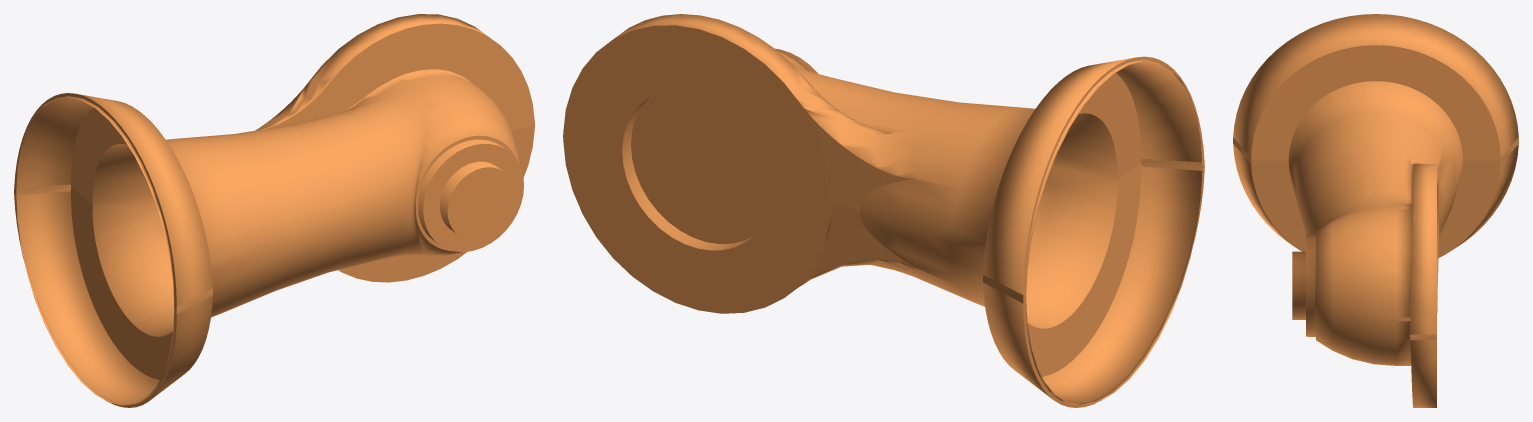
3 views of the same model, side by side, from view 1: azimuth 30°, elevation 25°; view 2: azimuth 150°, elevation 25°; view 3: azimuth 270°, elevation 25° (orthographic). The views are drawn at different scales.
Parts seen in each view (by area): view 1: link_4; view 2: link_4; view 3: link_4.
Part boxes in pixels (box(x1,y1,x2,y2)): link_4: box(14, 14, 534, 407); link_4: box(563, 14, 1204, 407); link_4: box(1233, 14, 1518, 407).
Size of the model in its own units: 0.3391 by 0.2081 by 0.2059.
